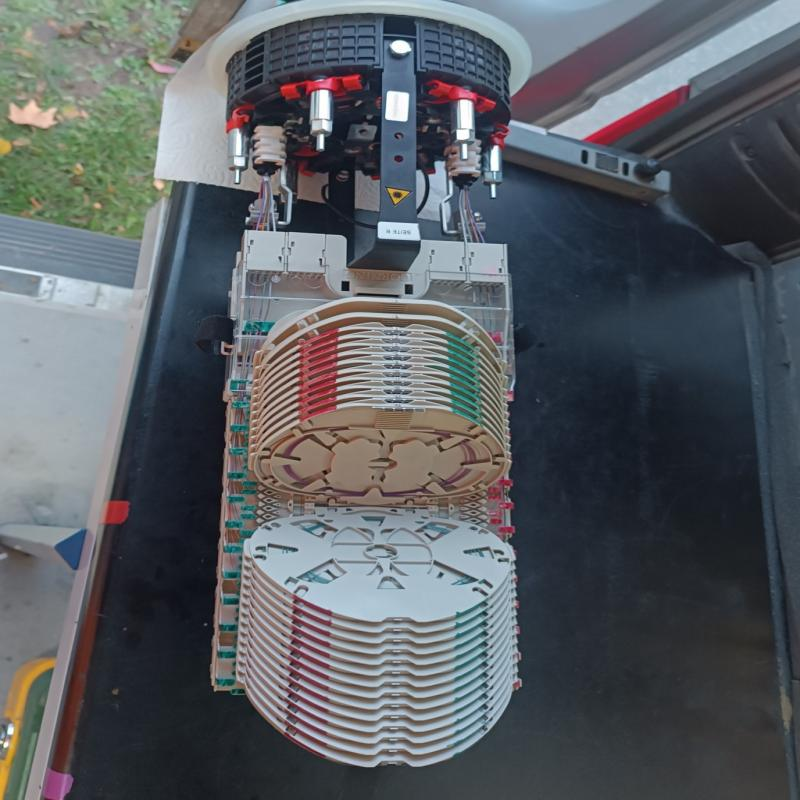NT-Muffen: (197, 0, 529, 770)
